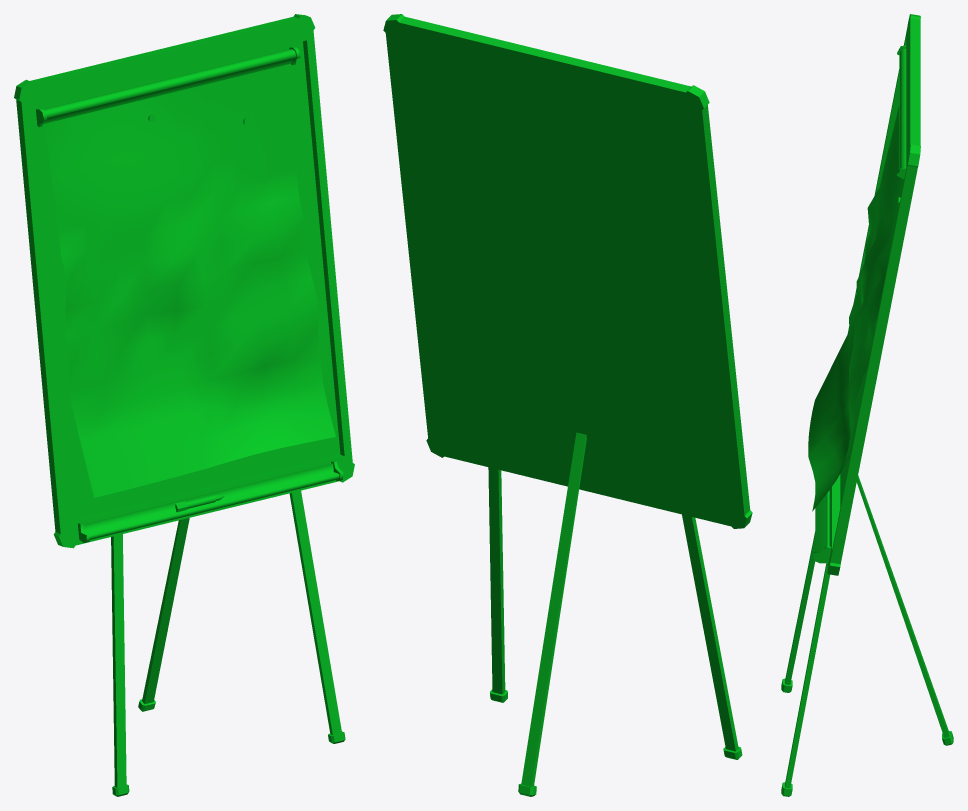
File: tablica.FBX
3 views of the same model, side by side, from view 1: azimuth 30°, elevation 25°; view 2: azimuth 150°, elevation 25°; view 3: azimuth 270°, elevation 25° (orthographic). The views are drawn at different scales.
Visible parts, largest first — view 1: tablica; view 2: tablica; view 3: tablica.
Part boxes in pixels (x1,y1,x2,y2): tablica: (14, 14, 354, 796); tablica: (383, 14, 752, 796); tablica: (781, 14, 953, 796).
Bounding box in the file's own units: 64.13 × 140 × 32.85.
